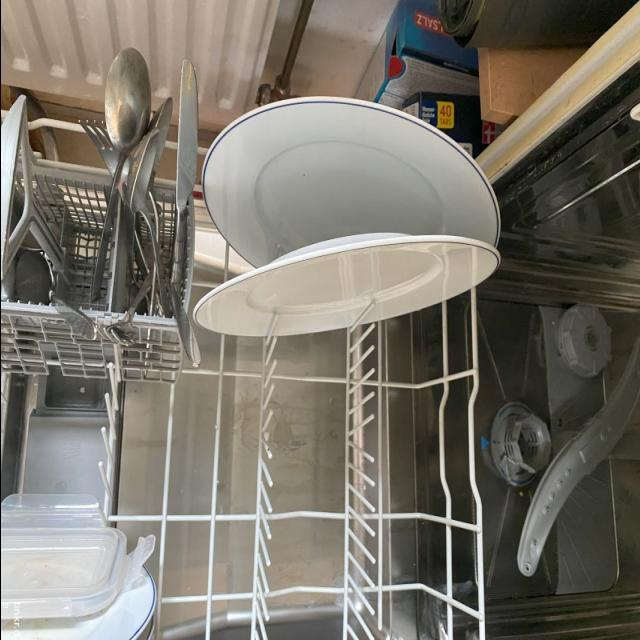clutery_bin: (14, 90, 173, 351)
empty_slot: (187, 365, 475, 640)
